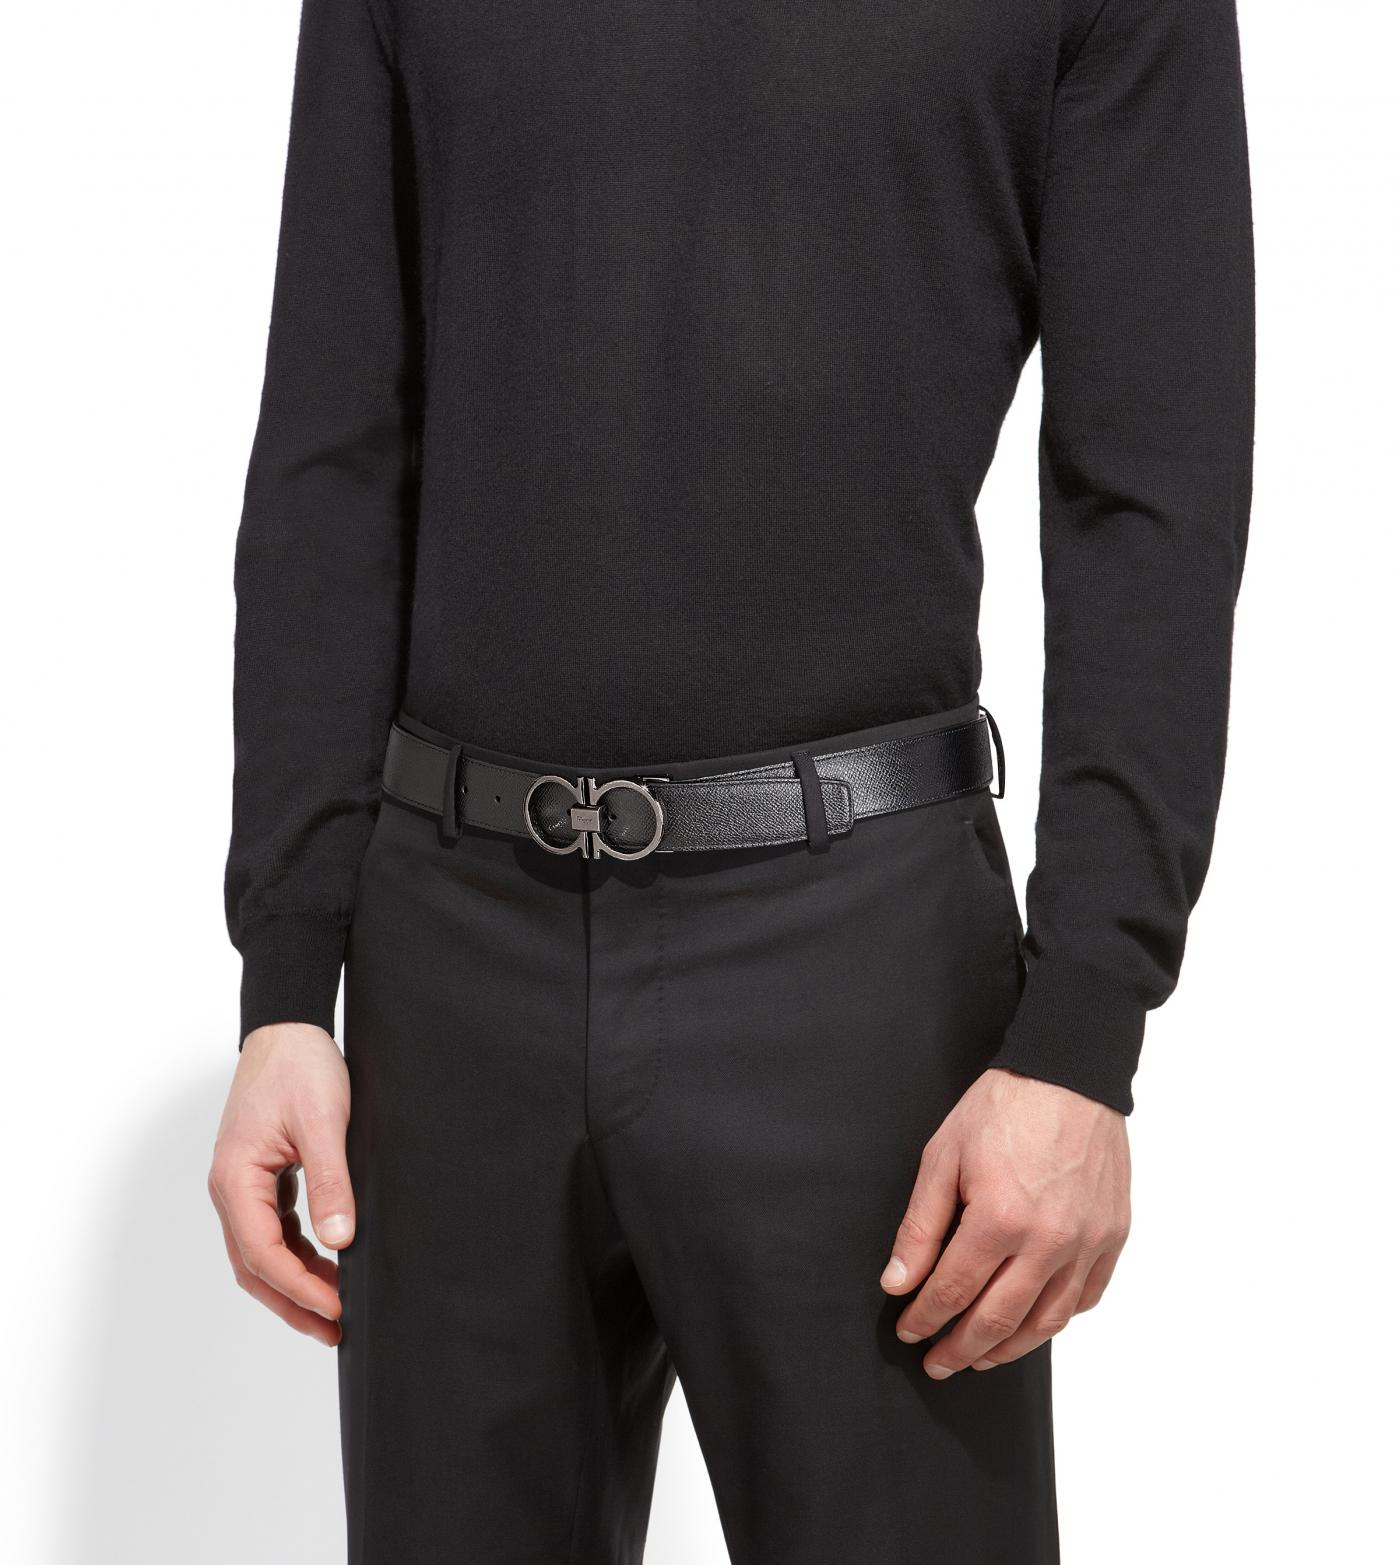C_long sleeve: (190, 1, 1283, 1032)
F_belt: (348, 704, 1025, 880)
F_dress pants: (348, 709, 1084, 1543)
